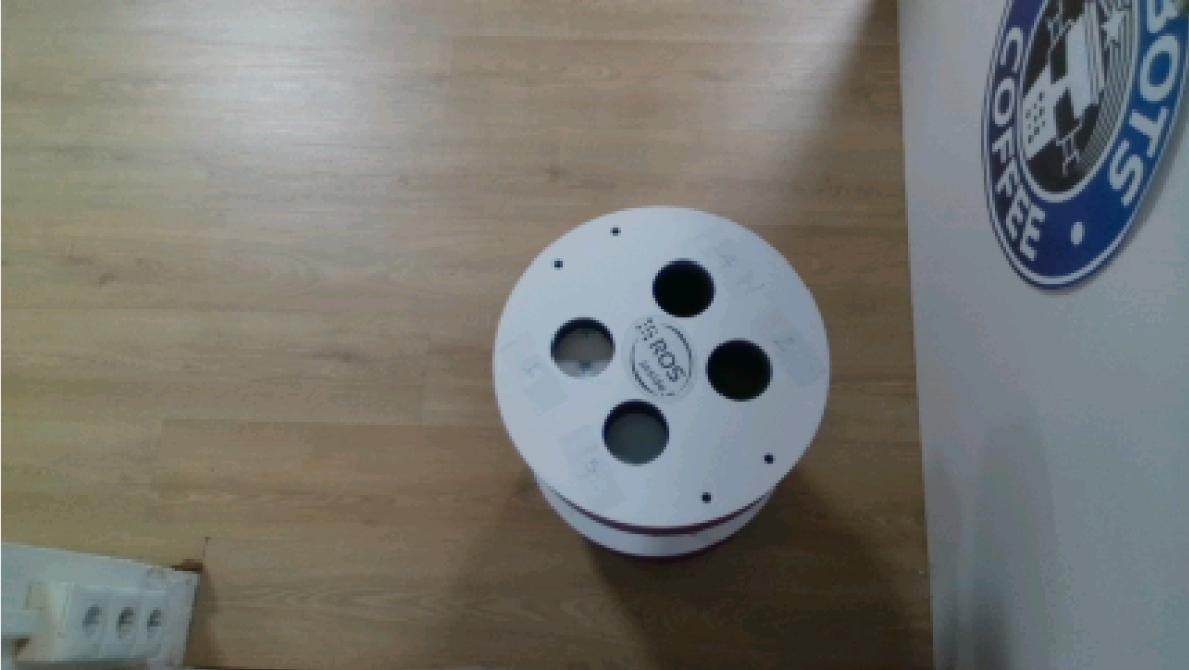hole: (599, 394, 680, 467), (543, 310, 619, 384), (703, 333, 774, 407), (650, 253, 718, 322)
